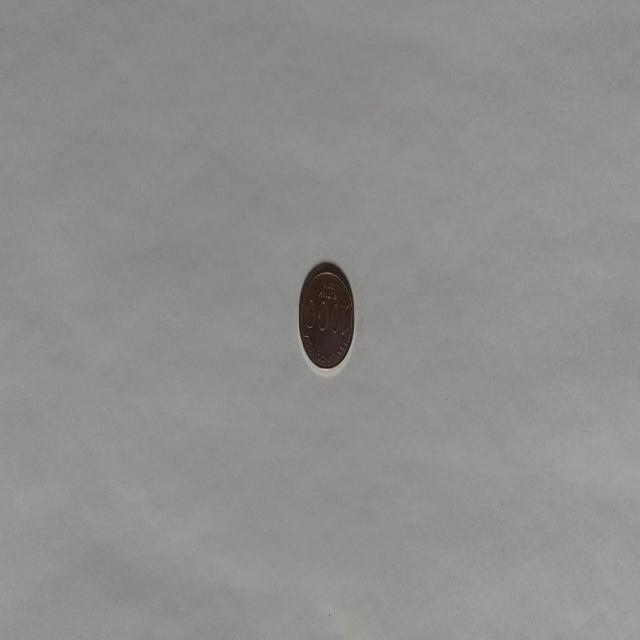seribu rupiah koin: (297, 260, 355, 372)
